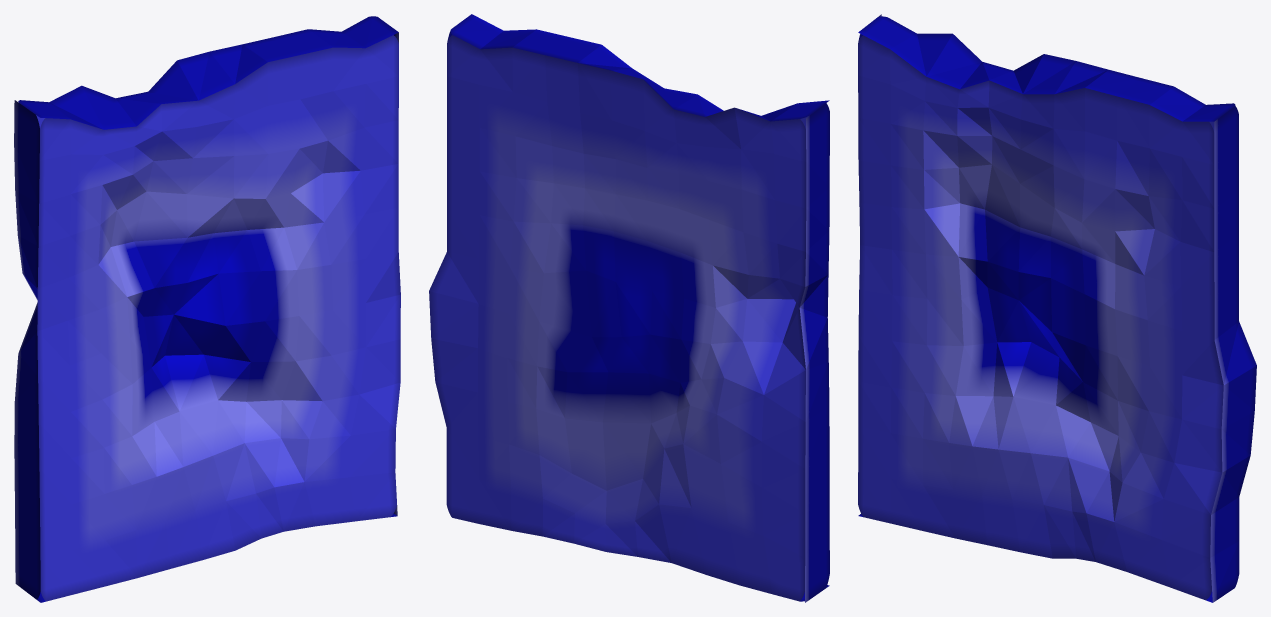
Rendered from blue_moongate_0777x09.obj.
The picture shows the model from 3 angles, left to right: view 1: azimuth 30°, elevation 25°; view 2: azimuth 150°, elevation 25°; view 3: azimuth 330°, elevation 25°; orthographic projection.
Visible parts, largest first — view 1: blue_moongate_0777x09; view 2: blue_moongate_0777x09; view 3: blue_moongate_0777x09.
Boxes of the visible parts, x1,y1,x2,y2 form: blue_moongate_0777x09: (14,16,400,602); blue_moongate_0777x09: (429,14,829,602); blue_moongate_0777x09: (858,14,1256,602).
Bounding box in the file's own units: 4.33 × 5.35 × 0.6322.
